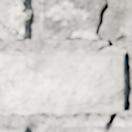brick: (0, 50, 126, 115), (0, 0, 31, 36), (0, 25, 21, 39), (0, 126, 26, 131)
broken_brick: (41, 0, 131, 42), (42, 124, 131, 131)
crack: (0, 2, 131, 130), (0, 19, 24, 39)
